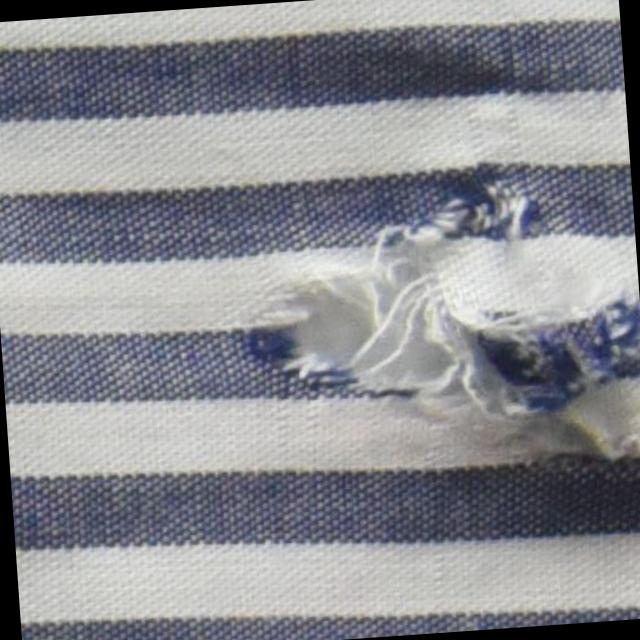cut: (282, 179, 634, 463)
